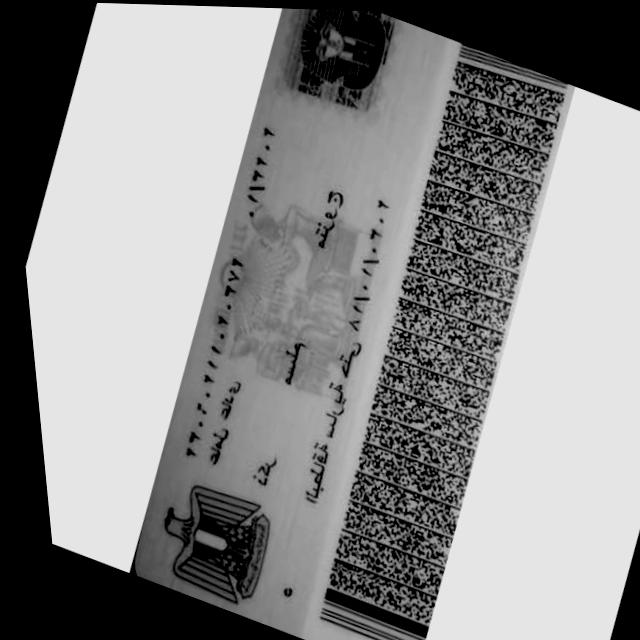id_card: (134, 8, 569, 640)
